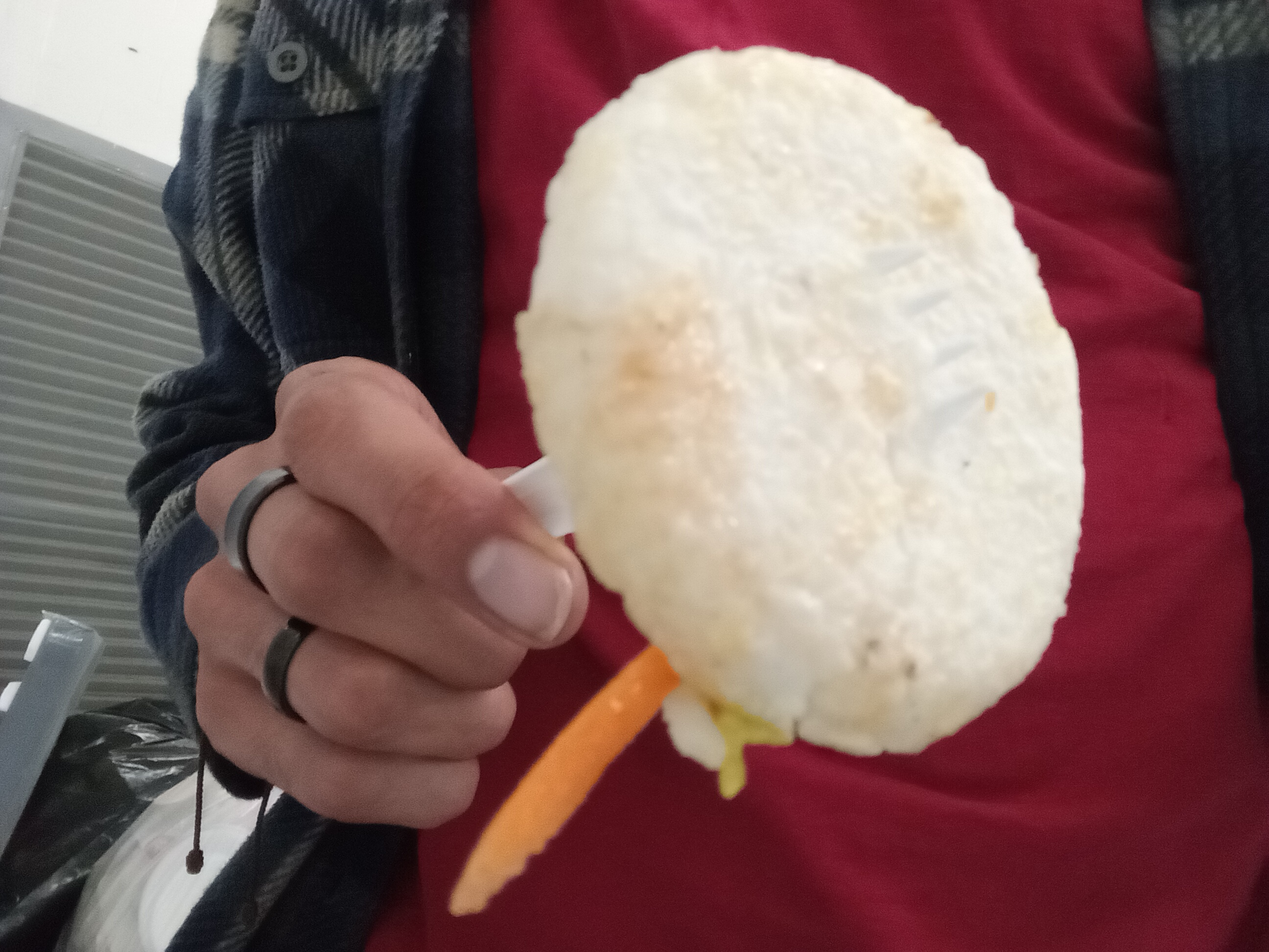Organico: (514, 46, 1088, 758)
